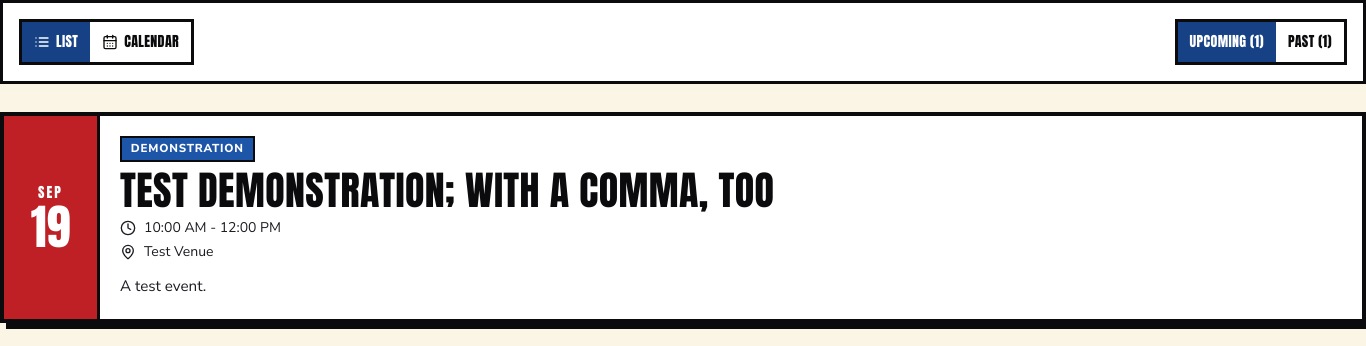
Test: events browser › shows upcoming events by default and can switch to past
The image size is (1366, 346).
Expected: the heading "Test Demonstration; with a comma, too" is shown, [120,160,774,220]
Click the button "Past (1)" at (1310, 42), box [1276,22,1344,62]
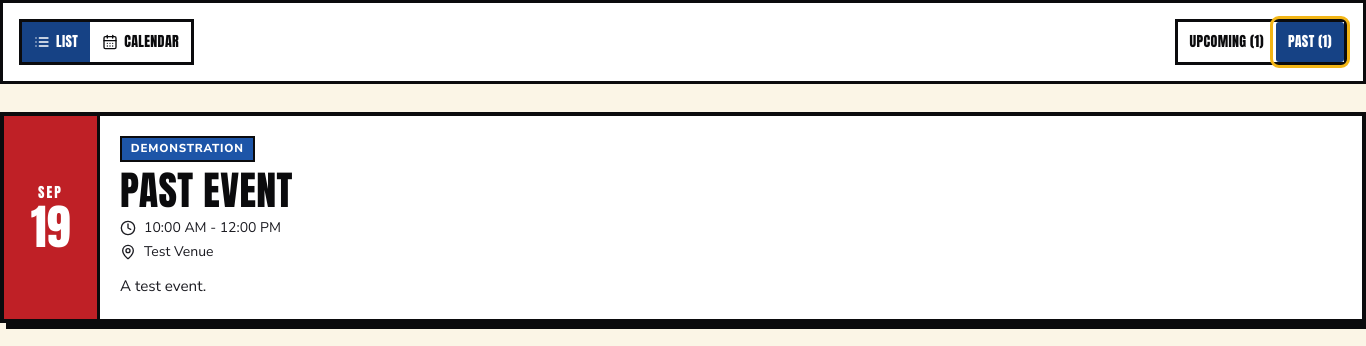
Expected: the heading "Past Event" is shown, [120,160,293,220]
